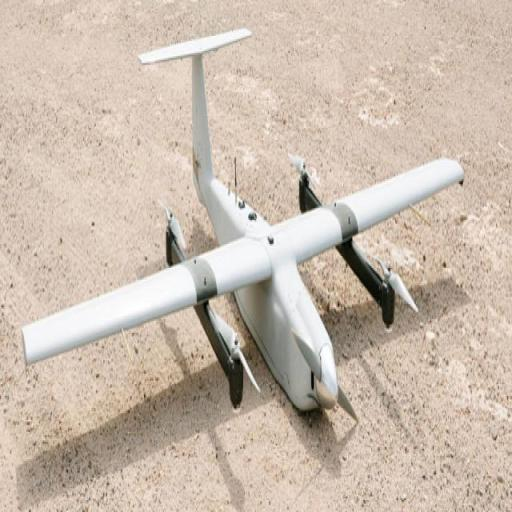uav: (20, 28, 512, 426)
